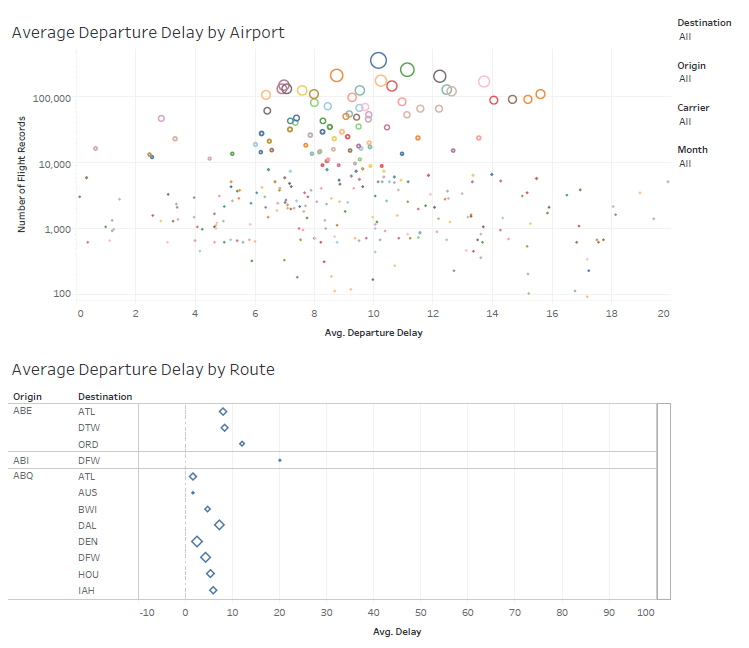

Layout of this report page (visuals, bound fields, positions):
{"tool":"tableau","page":{"name":"Delay Detailed","canvas":[1000,800],"ordinal":1},"visuals":[{"type":"worksheet","title":"Delay by Volume","mark":"Automatic","rows":["Number of Records"],"cols":["DEP_DELAY"],"box":[8,8,824,415]},{"type":"filter","title":"Delay by Volume","param":"[federated.0as00j71ngsp9e13z5v8913zjk8z].[none:DEST:nk]","box":[832,8,160,52]},{"type":"filter","title":"Delay by Volume","param":"[federated.0as00j71ngsp9e13z5v8913zjk8z].[none:ORIGIN:nk]","box":[832,60,160,52]},{"type":"filter","title":"Delay by Volume","param":"[federated.0as00j71ngsp9e13z5v8913zjk8z].[none:UNIQUE_CARRIER:nk]","box":[832,112,160,52]},{"type":"filter","title":"Delay by Route","param":"[federated.0as00j71ngsp9e13z5v8913zjk8z].[none:MONTH:ok]","box":[832,164,160,52]},{"type":"worksheet","title":"Delay by Route","mark":"Shape","rows":["ORIGIN","DEST"],"cols":["Calculation_1176565421949845505"],"box":[8,423,824,369]}]}

Visuals, with their boxes on the page's 1000x800 design canvas (x1, y1, x2, y2). These are canvas units, not pixel positions in the 749x648 screenshot, which may show the page scaled, cropped or inside an application window:
"Delay by Volume" worksheet: [8,8,832,423]
"Delay by Volume" filter: [832,8,992,60]
"Delay by Volume" filter: [832,60,992,112]
"Delay by Volume" filter: [832,112,992,164]
"Delay by Route" filter: [832,164,992,216]
"Delay by Route" worksheet (Shape marks): [8,423,832,792]
